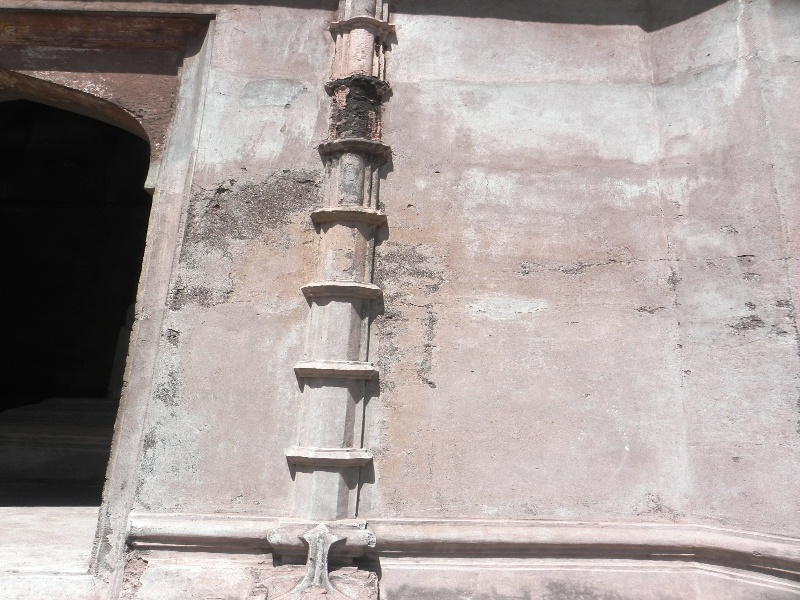Spalling: (186, 157, 306, 249), (329, 74, 390, 141)
